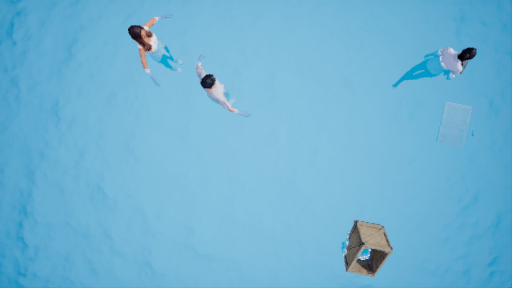person: (396, 41, 478, 95), (122, 14, 177, 81), (199, 59, 248, 119)
